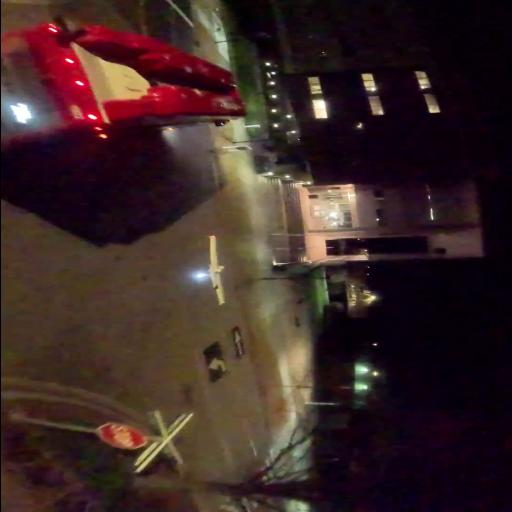uav: (187, 234, 234, 306)
